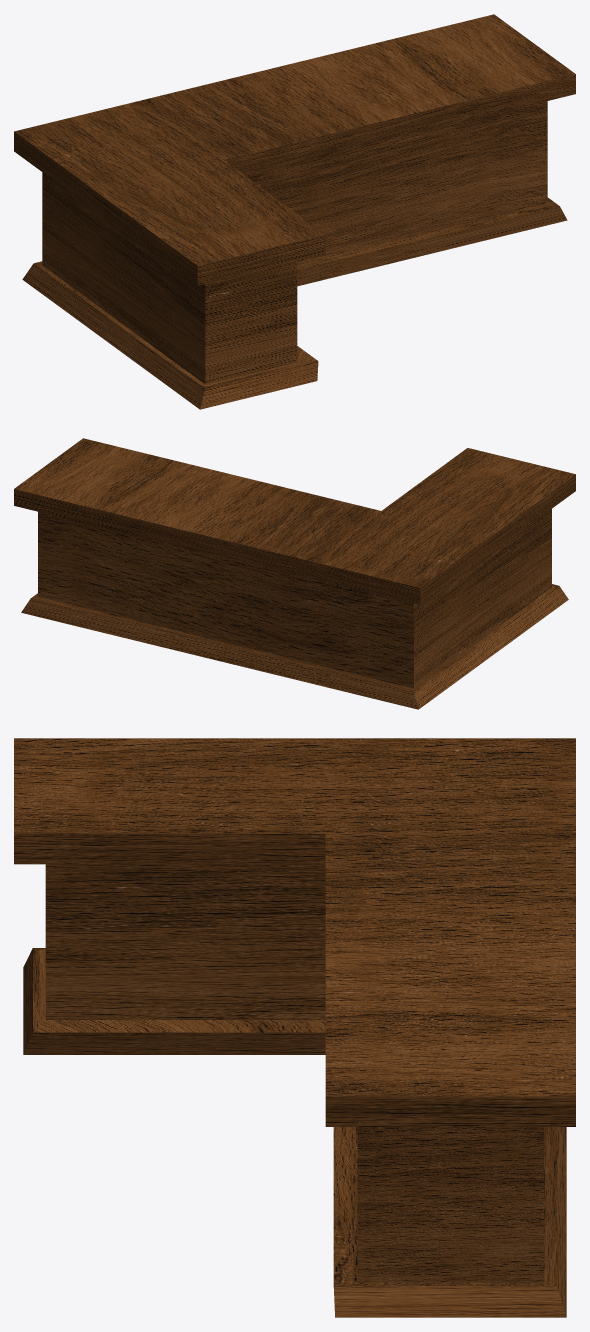
The model's file is bar.fbx.
The picture shows the model from 3 angles, top to bottom: view 1: azimuth 30°, elevation 25°; view 2: azimuth 150°, elevation 25°; view 3: azimuth 270°, elevation 25°; orthographic projection. The views are drawn at different scales.
Parts seen in each view (by area): view 1: Mesh (5); view 2: Mesh (5); view 3: Mesh (5).
Boxes of the visible parts, <box> form: Mesh (5): <box>14,14,575,409</box>; Mesh (5): <box>14,438,575,709</box>; Mesh (5): <box>14,738,575,1317</box>.
Bounding box in the file's own units: 454 × 133 × 301.
